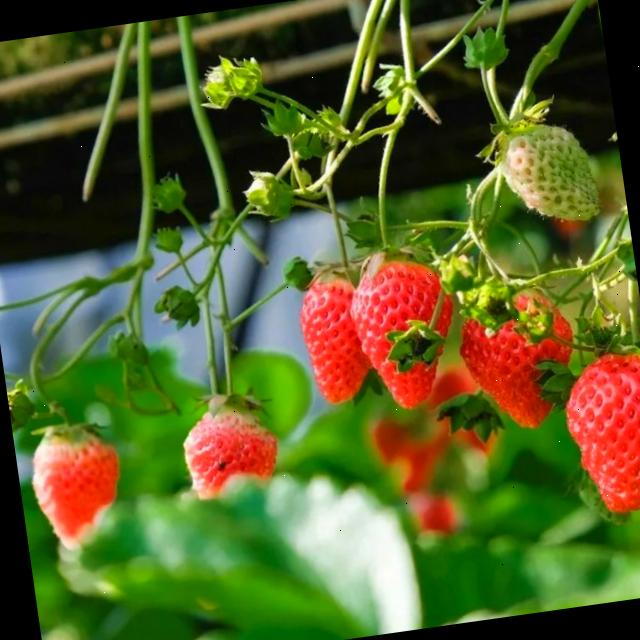Ripe Strawberry: (350, 250, 461, 410), (561, 356, 640, 525), (462, 308, 562, 436), (26, 422, 127, 536), (171, 397, 287, 488), (297, 272, 362, 413)
